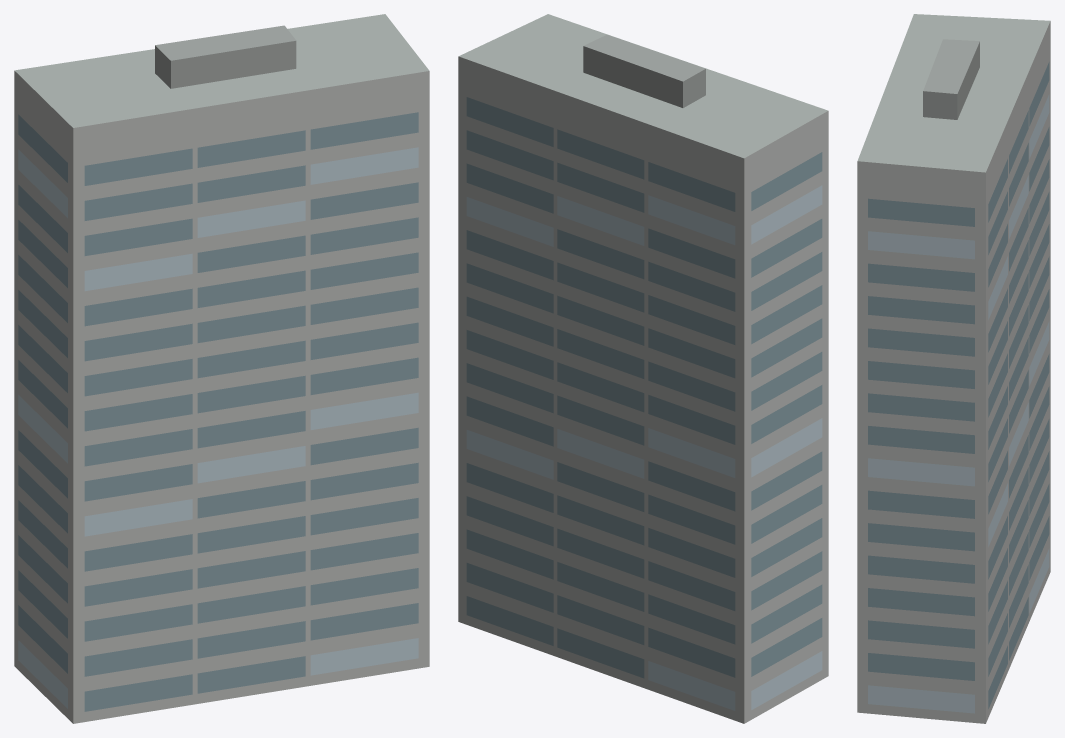
Rendered from fallback-gwanak-dream-town-142.glb.
3 views of the same model, side by side, from view 1: azimuth 30°, elevation 25°; view 2: azimuth 150°, elevation 25°; view 3: azimuth 270°, elevation 25° (orthographic). The views are drawn at different scales.
Visible parts, largest first — view 1: fallback-gwanak-dream-town-142; view 2: fallback-gwanak-dream-town-142; view 3: fallback-gwanak-dream-town-142.
Boxes of the visible parts, <box> form: fallback-gwanak-dream-town-142: <box>14,14,429,723</box>; fallback-gwanak-dream-town-142: <box>458,14,828,723</box>; fallback-gwanak-dream-town-142: <box>857,14,1050,723</box>.
Bounding box in the file's own units: 28.26 × 48 × 14.55.
